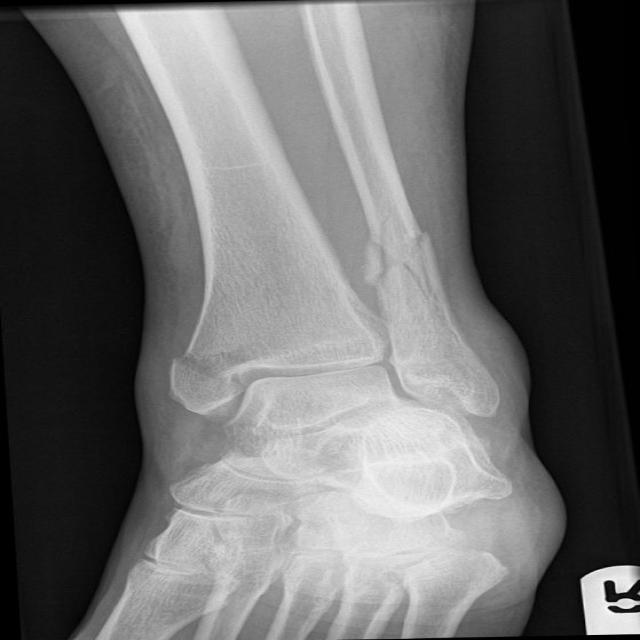Comminuted: (341, 215, 464, 298)
Greenstick: (154, 338, 262, 397)
